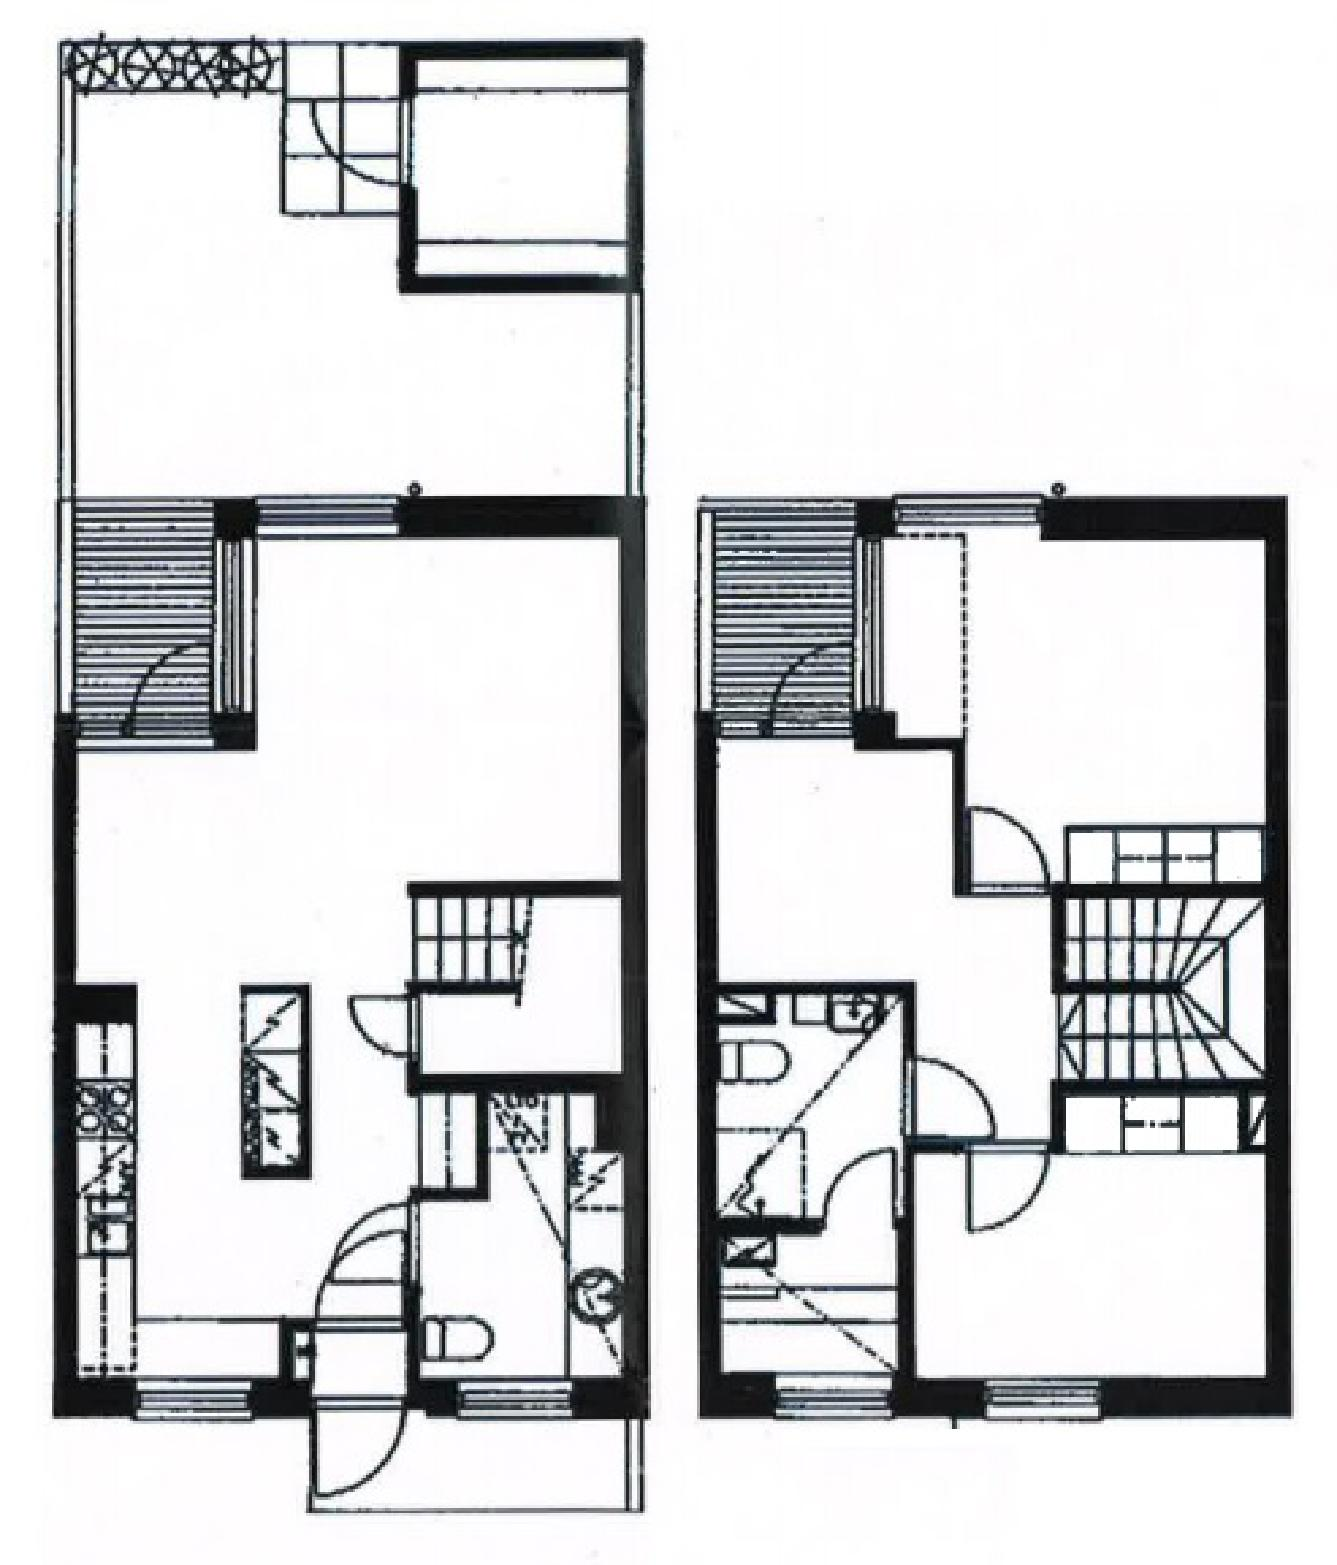door: (80, 531, 617, 1382), (73, 34, 622, 493), (875, 525, 1265, 881), (719, 737, 1060, 1133), (919, 1155, 1261, 1370), (407, 50, 627, 282), (70, 493, 245, 743), (695, 496, 865, 735), (714, 987, 887, 1203), (413, 893, 611, 1072), (704, 1229, 905, 1377)
window: (305, 1231, 414, 1499), (966, 798, 1062, 912), (897, 1042, 1000, 1143), (122, 638, 222, 737), (968, 1137, 1060, 1237), (302, 92, 405, 182), (775, 635, 863, 735), (332, 1199, 426, 1275), (824, 1147, 897, 1225), (341, 985, 416, 1060)
zone: (846, 531, 882, 721), (890, 489, 1039, 533), (259, 496, 397, 536), (779, 1371, 894, 1416), (463, 1374, 568, 1420), (983, 1381, 1100, 1420), (141, 1379, 245, 1420)
